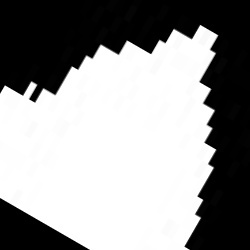spot: (0, 24, 218, 248)
